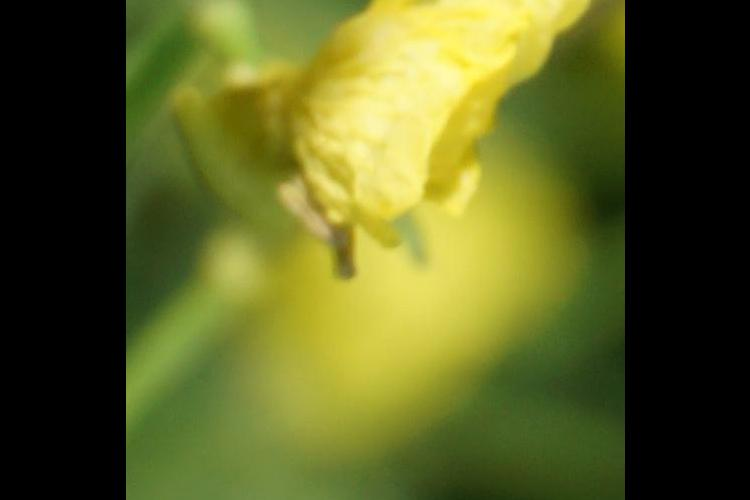yellow: (243, 1, 606, 255)
